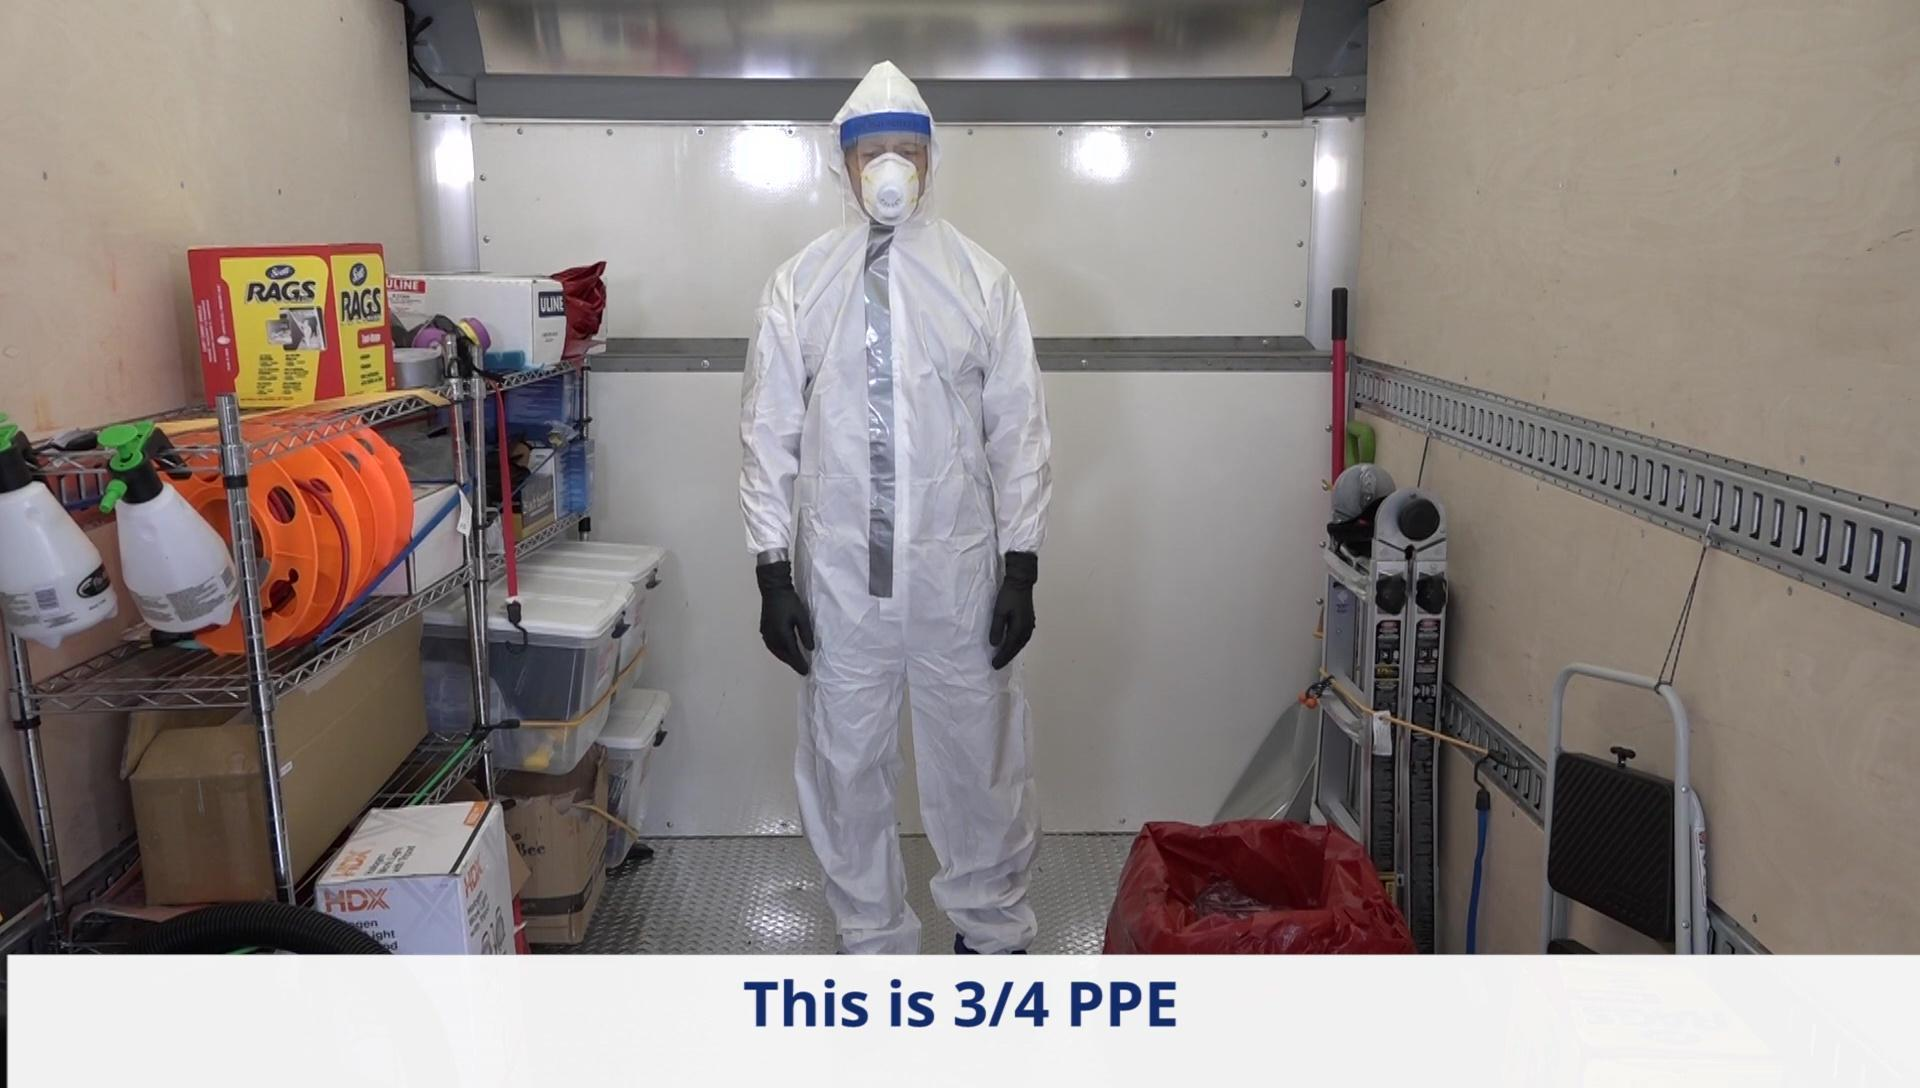Face_Shield: (836, 108, 938, 243)
Gloves: (750, 563, 818, 681), (987, 550, 1042, 670)
